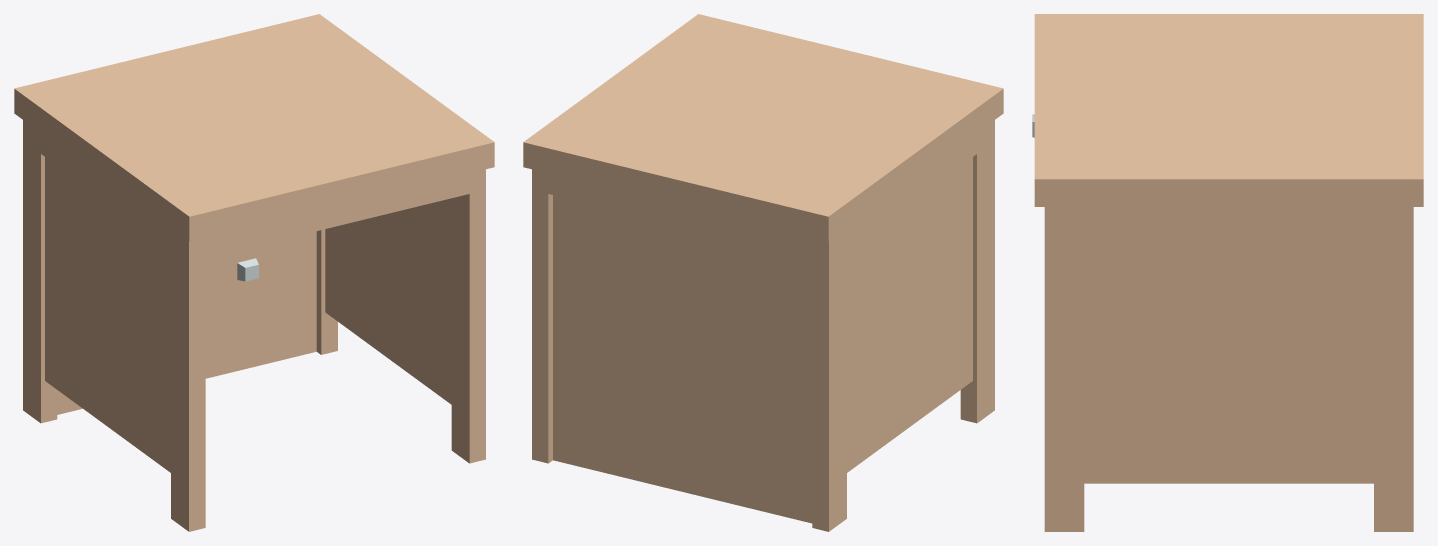
The model's file is kn-desk.glb.
The picture shows the model from 3 angles, left to right: view 1: azimuth 30°, elevation 25°; view 2: azimuth 150°, elevation 25°; view 3: azimuth 270°, elevation 25°; orthographic projection. The views are drawn at different scales.
Parts seen in each view (by area): view 1: desk(Clone); view 2: desk(Clone); view 3: desk(Clone).
Part boxes in pixels (x1=…): desk(Clone): x1=14, y1=14, x2=494, y2=531; desk(Clone): x1=523, y1=14, x2=1003, y2=531; desk(Clone): x1=1034, y1=14, x2=1423, y2=531.
Size of the model in its own units: 1 by 1 by 1.
